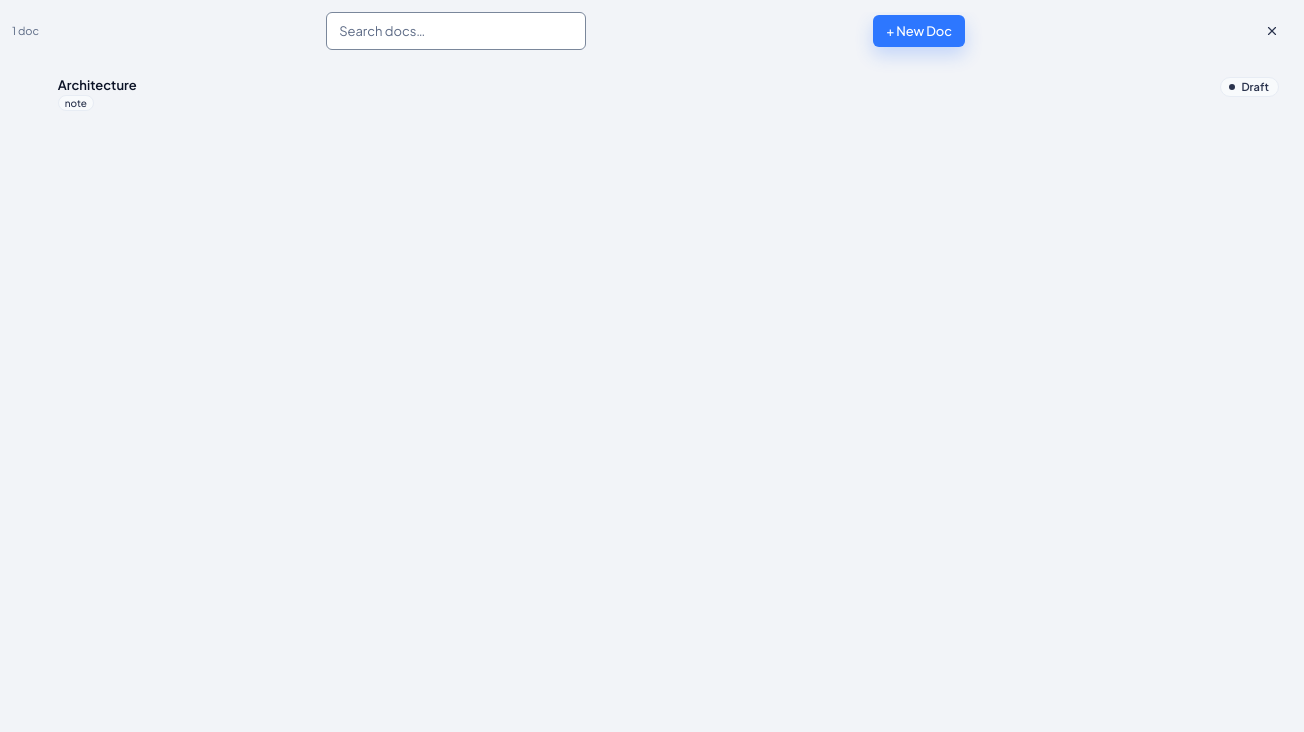
Scenario: Docs connections (plan 25 — extend the section to Documents) › shows who references the document, using the reverse label
The image size is (1304, 732).
Click the text "Architecture". click: coordinates (97, 85)
box: left=58, top=77, right=137, bottom=93
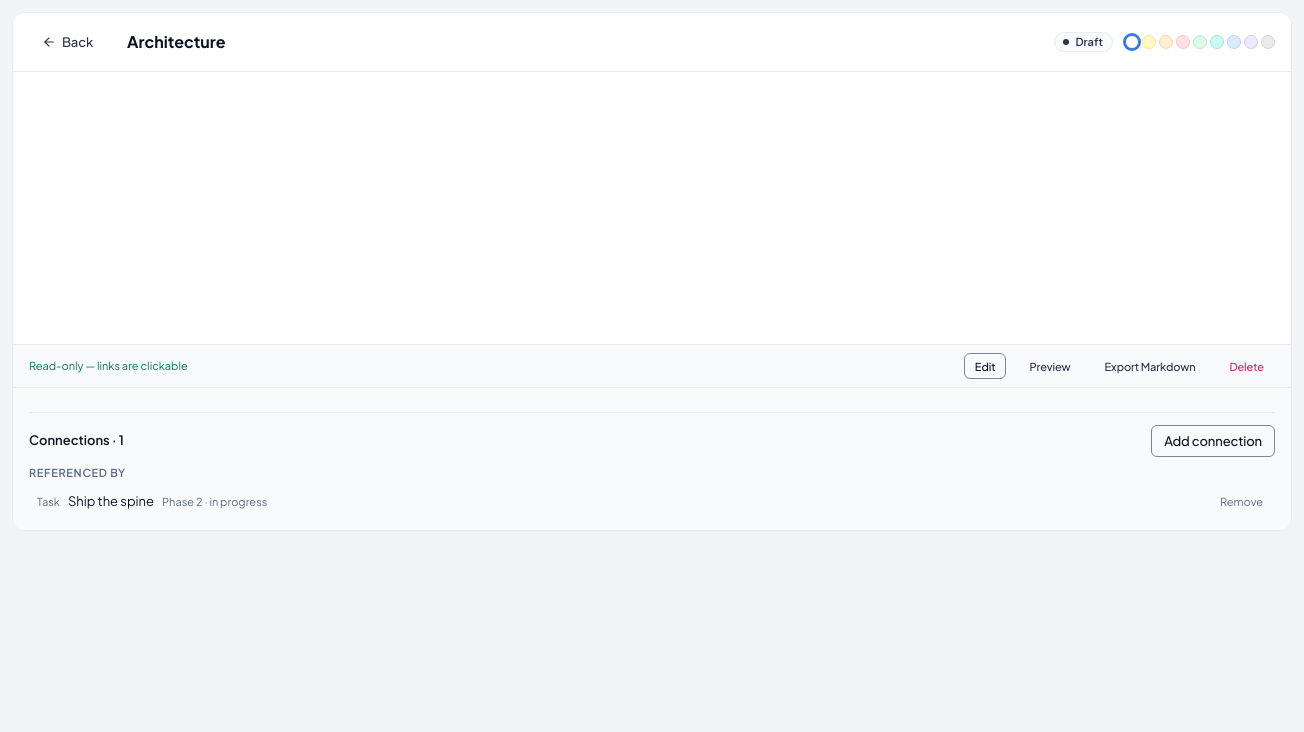
Check: the text "Referenced by" is shown, box left=29, top=466, right=126, bottom=479
Check: the text "Ship the spine" is shown, box left=68, top=492, right=154, bottom=512
Check: the text "Phase 2 · in progress" is shown, box left=162, top=494, right=267, bottom=510
